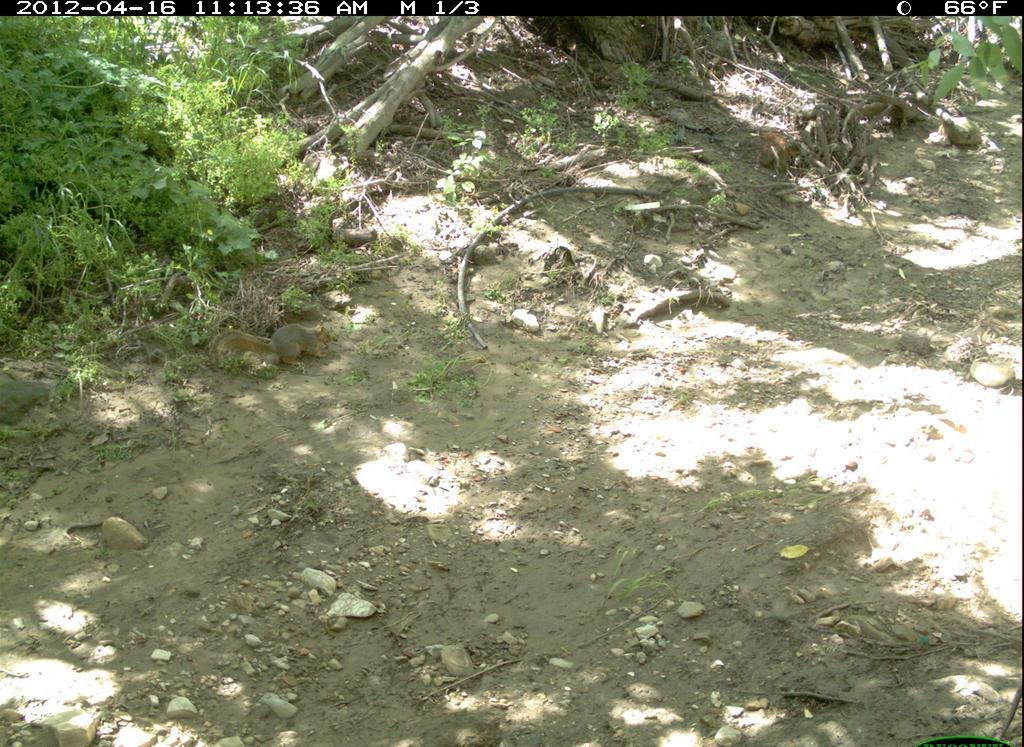squirrel: (205, 318, 338, 379)
